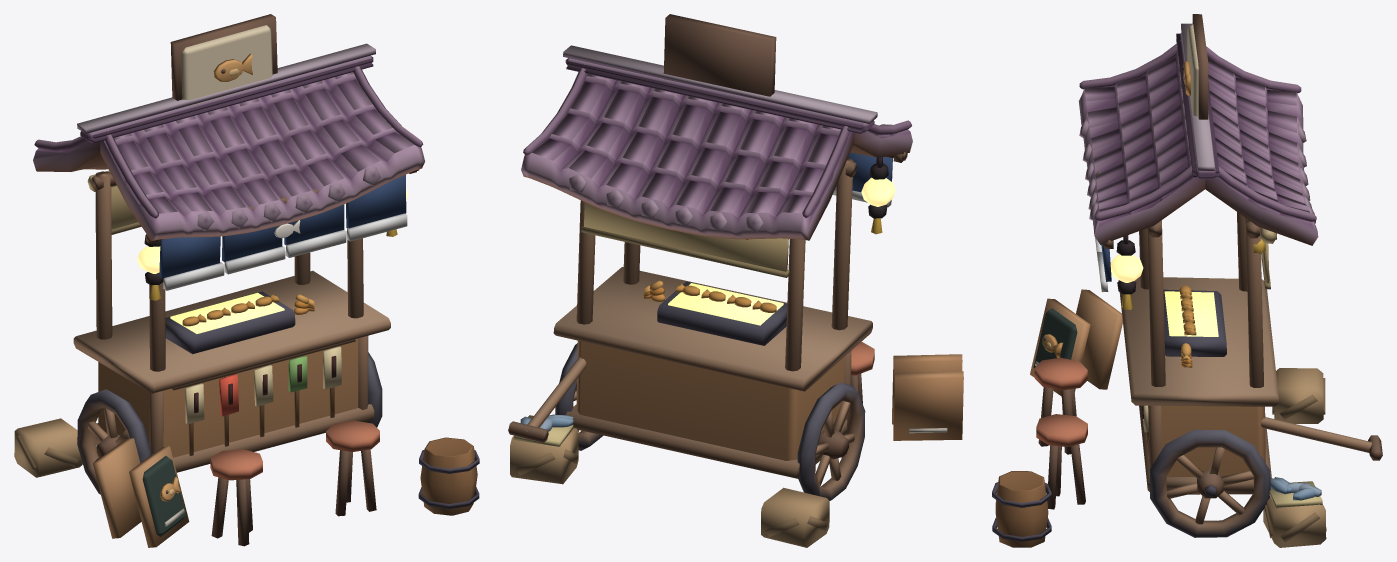
The model's file is shop-1-v5.glb.
3 views of the same model, side by side, from view 1: azimuth 30°, elevation 25°; view 2: azimuth 150°, elevation 25°; view 3: azimuth 270°, elevation 25° (orthographic).
Parts seen in each view (by area): view 1: shop-1-v5, window_glow; view 2: shop-1-v5, window_glow; view 3: shop-1-v5, window_glow.
Boxes of the visible parts, x1,y1,x2,y2 form: shop-1-v5: (14, 14, 479, 547); window_glow: (137, 189, 407, 333); shop-1-v5: (508, 14, 963, 547); window_glow: (668, 177, 895, 325); shop-1-v5: (992, 14, 1382, 547); window_glow: (1110, 254, 1218, 336).
Bounding box in the file's own units: 2.09 × 2.55 × 2.06.
